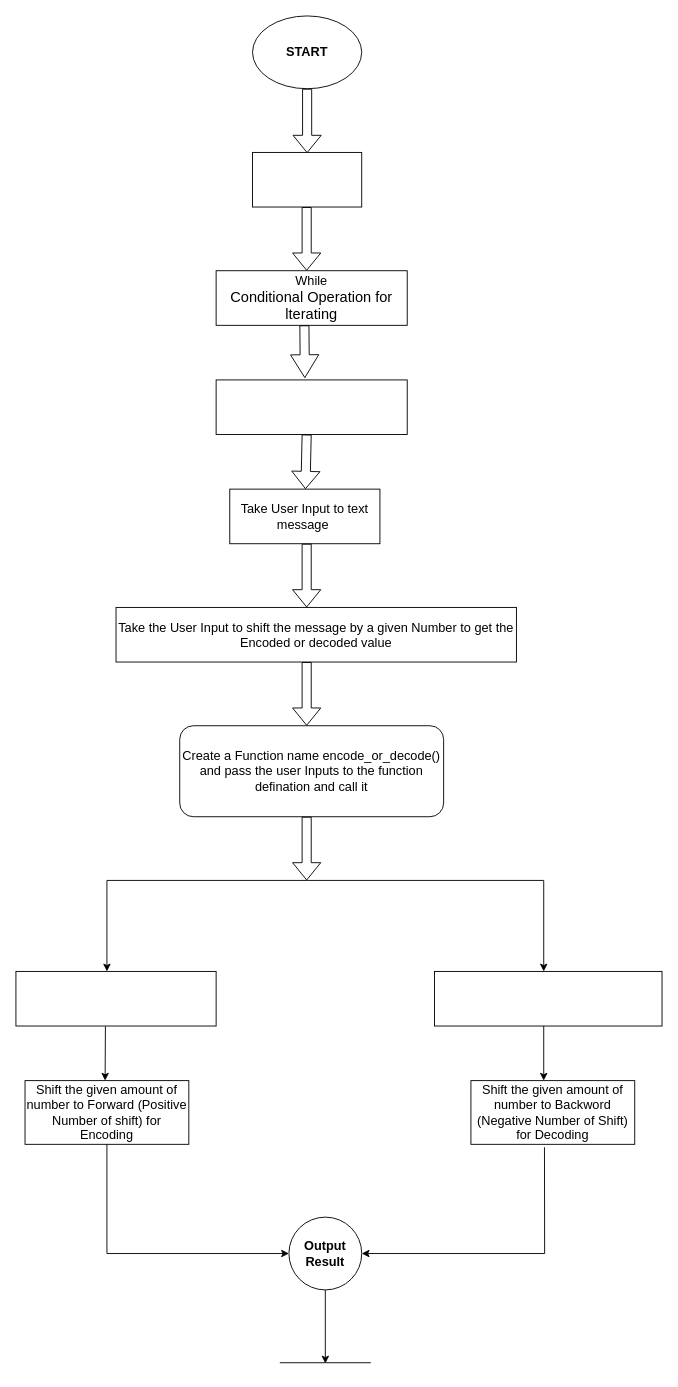
Image size: 678x1387. Some labels were removed from this diagram. Each missing label, with the box of its shape:
Import LOGO: (252, 152, 362, 207)
Inside the Function to Decode the given message: (434, 971, 662, 1026)
Inside the Function to Encode the given message: (15, 971, 216, 1026)
Take User Input To select Encode or Decode By the User: (215, 379, 407, 435)
